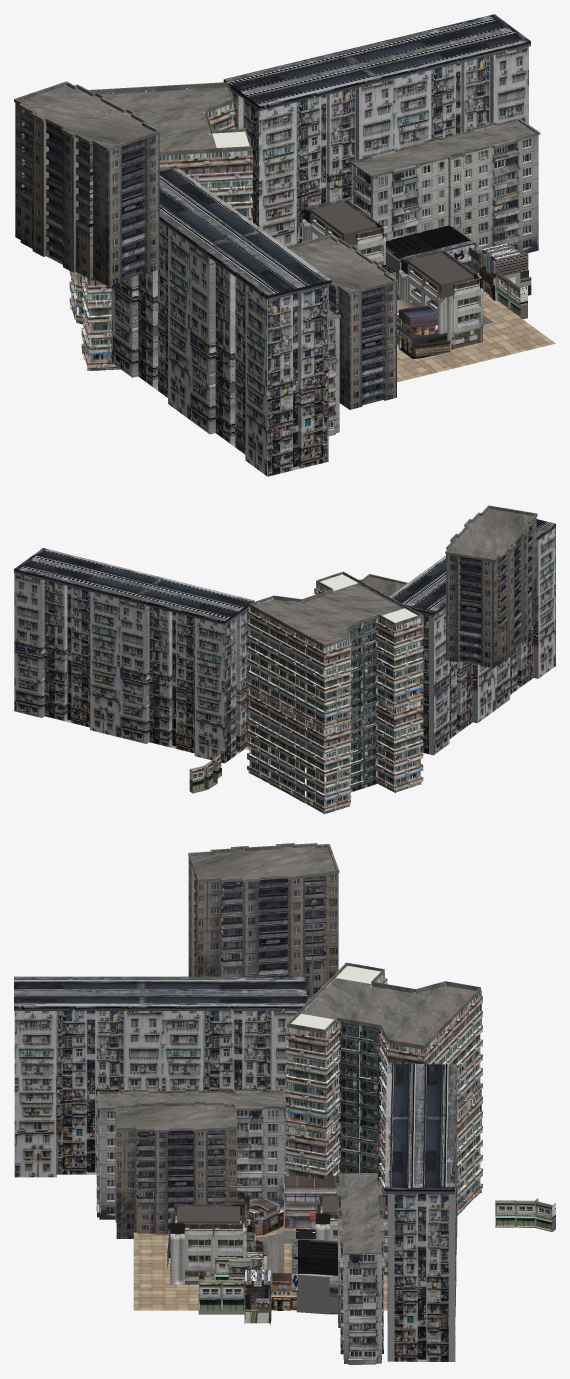
File: нью улица.fbx
The picture shows the model from 3 angles, top to bottom: view 1: azimuth 30°, elevation 25°; view 2: azimuth 150°, elevation 25°; view 3: azimuth 270°, elevation 25°; orthographic projection. The views are drawn at different scales.
Parts seen in each view (by area): view 1: Cube.006, Cube.016, Cube.013, Cube.003, Cube.005, Cube.011, Cube.014, Plane.006, Cube.015, дом18.003, дом11.002, дом16.002 (+2 smaller); view 2: Cube.016, Cube.005, Cube.006, Cube.013, Cube.011, дом9.003; view 3: Cube.006, Cube.005, Cube.016, Cube.013, Cube.011, Cube.012, Cube.003, Cube.014, Plane.006, дом18.003, дом14.001, дом16.002 (+6 smaller).
Boxes of the visible parts, left/top/right/bottom form: Cube.006: left=111, top=166, right=331, bottom=476; Cube.016: left=223, top=14, right=530, bottom=246; Cube.013: left=14, top=81, right=160, bottom=286; Cube.003: left=350, top=118, right=540, bottom=253; Cube.005: left=69, top=82, right=253, bottom=370; Cube.011: left=286, top=235, right=397, bottom=409; Cube.014: left=399, top=250, right=482, bottom=349; Plane.006: left=397, top=291, right=555, bottom=382; Cube.015: left=302, top=199, right=385, bottom=264; дом18.003: left=386, top=225, right=475, bottom=294; дом11.002: left=397, top=305, right=450, bottom=358; дом16.002: left=479, top=242, right=531, bottom=300; Cube.016: left=14, top=548, right=254, bottom=763; Cube.005: left=247, top=571, right=423, bottom=814; Cube.006: left=389, top=519, right=555, bottom=755; Cube.013: left=445, top=505, right=537, bottom=668; Cube.011: left=359, top=574, right=407, bottom=633; дом9.003: left=189, top=765, right=207, bottom=793; Cube.006: left=14, top=976, right=310, bottom=1177; Cube.005: left=285, top=962, right=482, bottom=1215; Cube.016: left=384, top=1064, right=457, bottom=1361; Cube.013: left=188, top=843, right=339, bottom=998; Cube.011: left=115, top=1101, right=237, bottom=1238; Cube.012: left=96, top=1089, right=286, bottom=1219; Cube.003: left=336, top=1173, right=384, bottom=1364; Cube.014: left=170, top=1204, right=246, bottom=1285; Plane.006: left=133, top=1231, right=273, bottom=1310; дом18.003: left=291, top=1239, right=337, bottom=1314; дом14.001: left=284, top=1175, right=339, bottom=1229; дом16.002: left=244, top=1270, right=271, bottom=1325.
Size of the model in its own units: 7050 by 3681 by 6341.
Materials: 26 (25 with a texture image).
